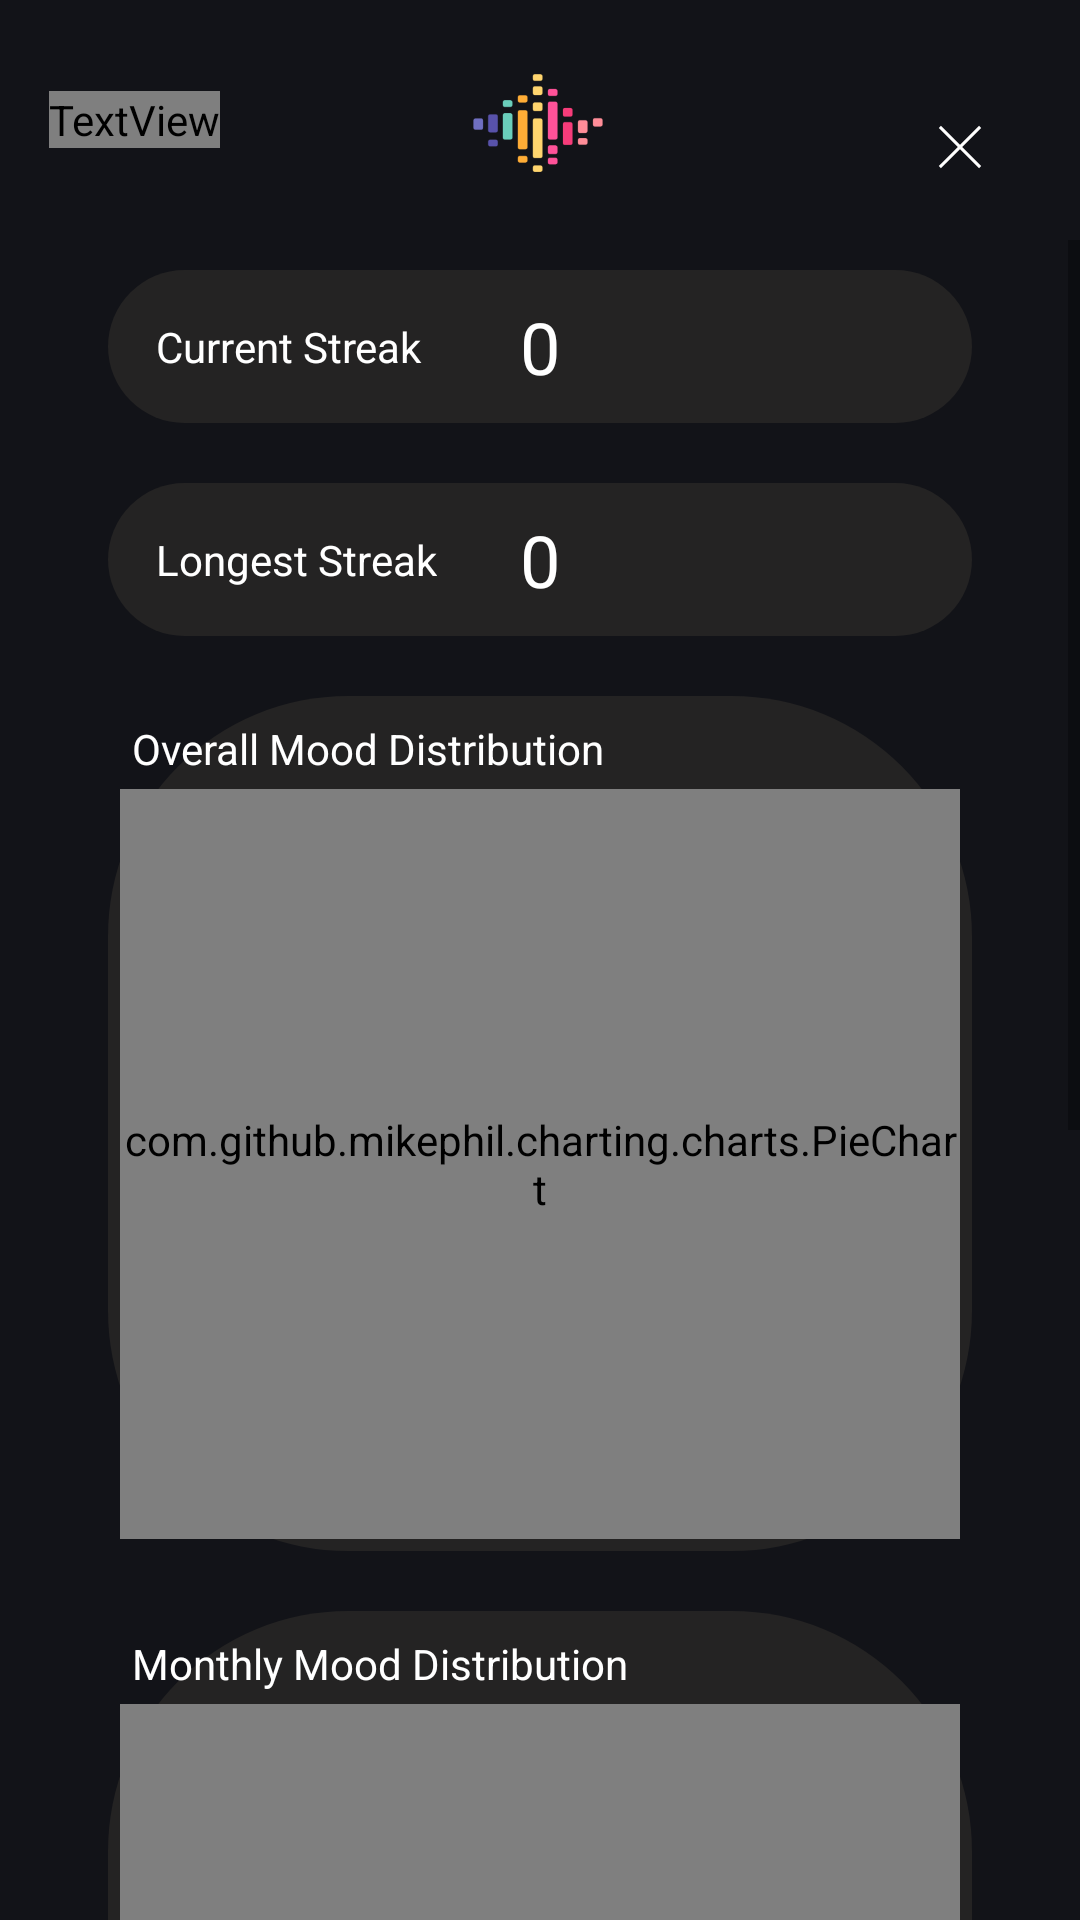

Where to tap for icons on this 1080px x 1920px app screen, as (x=x, y=y):
Close: (x=960, y=147)
